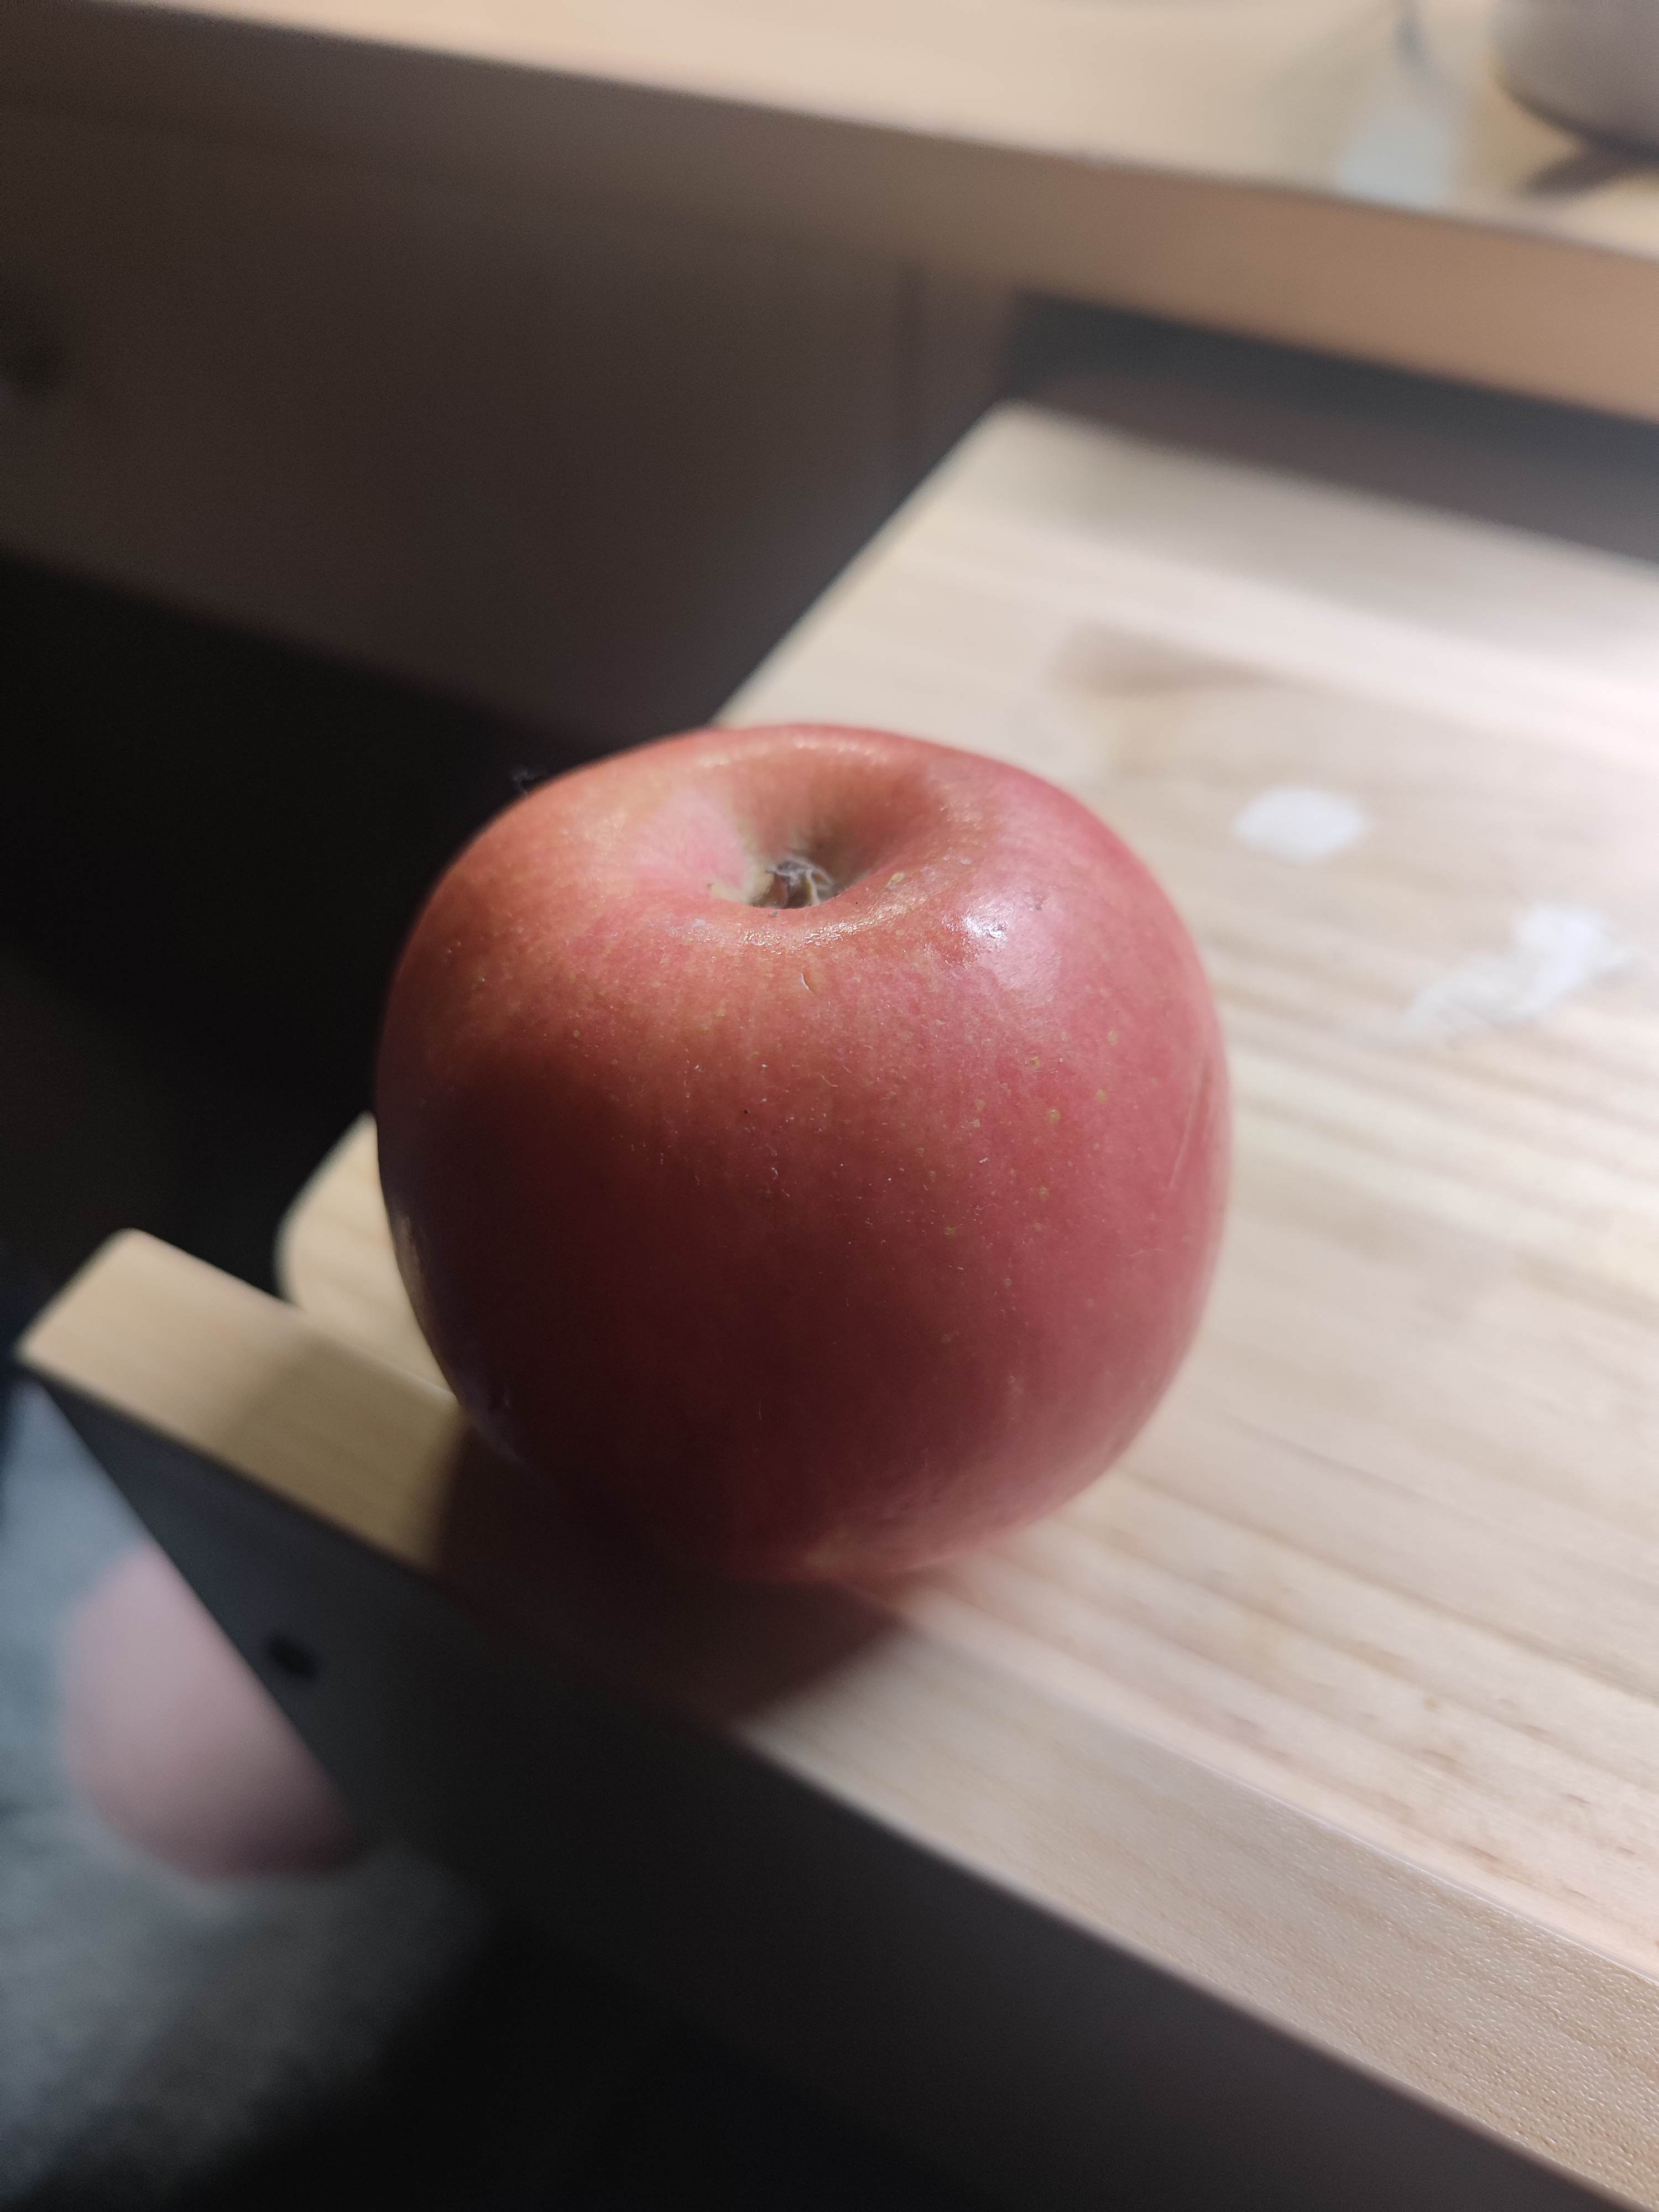apple: (383, 718, 1249, 1587)
